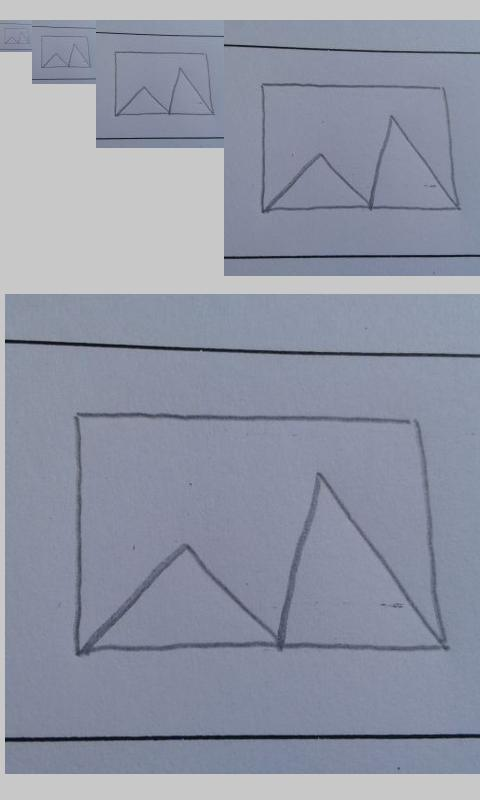image_view: (72, 408, 448, 657), (256, 79, 463, 217), (114, 50, 215, 117), (39, 34, 93, 70), (3, 27, 30, 46)
